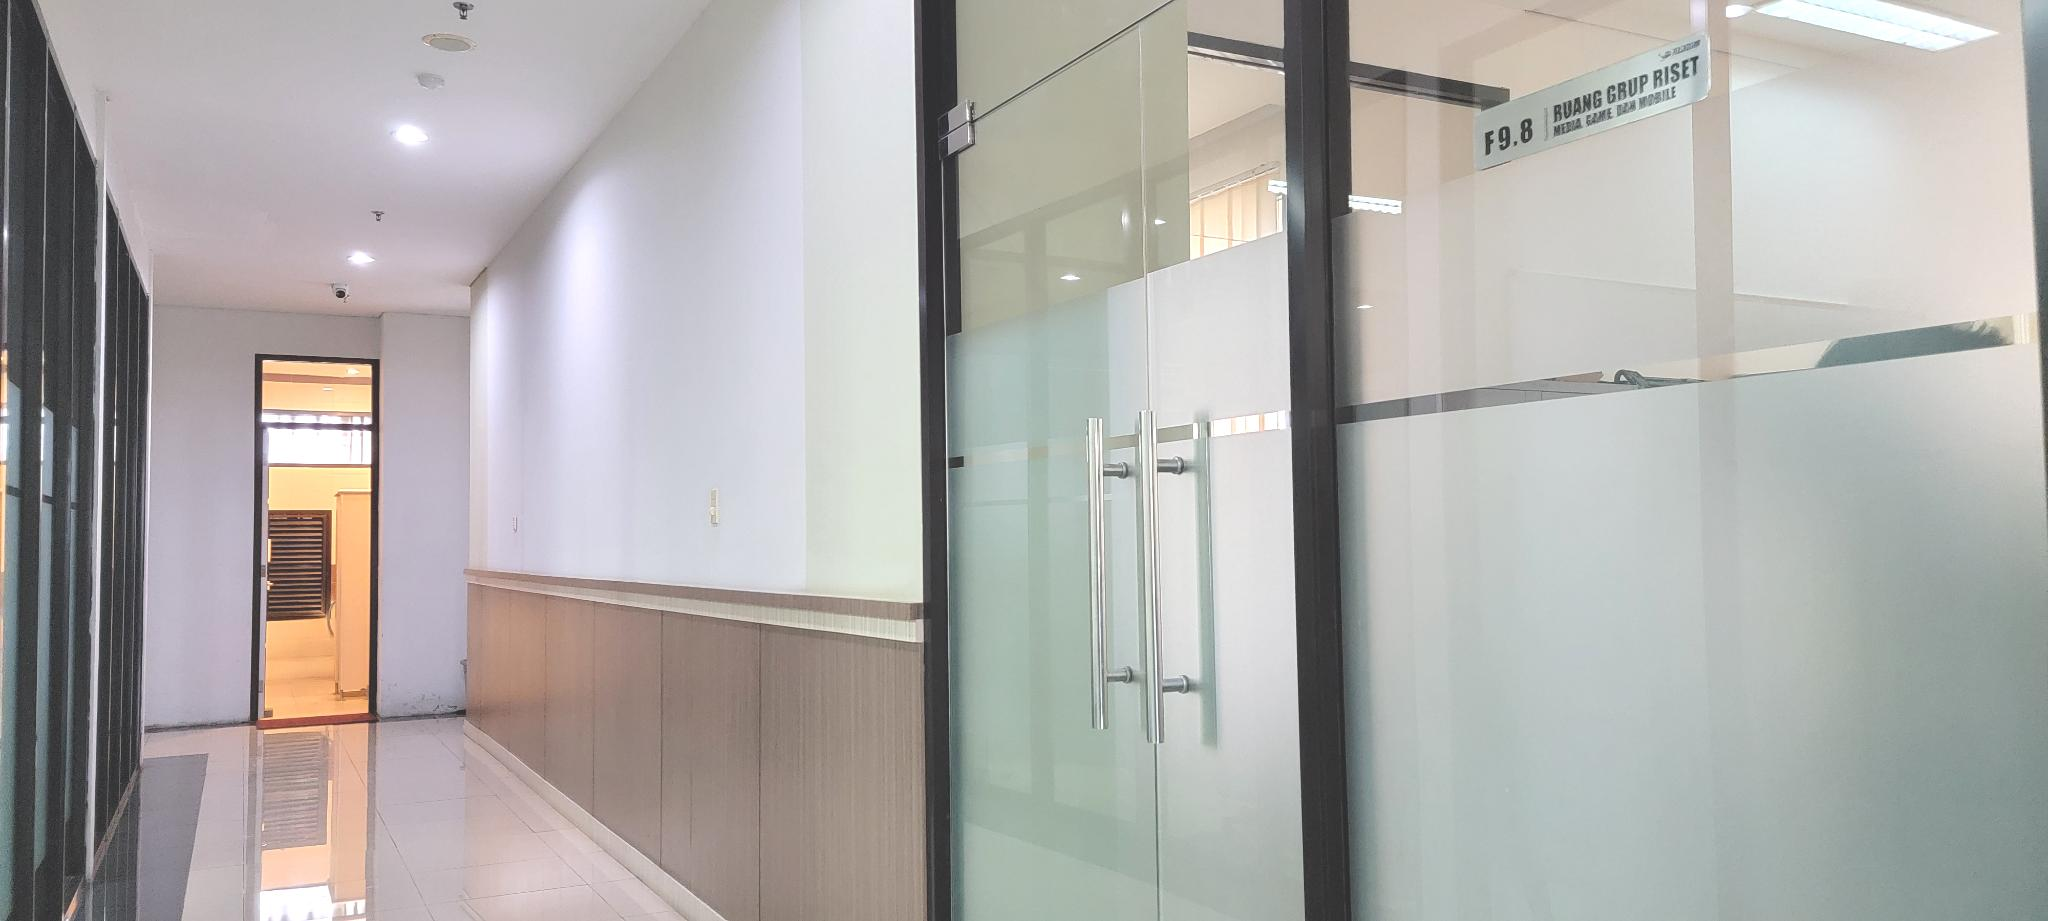plate: (1472, 26, 1714, 172)
